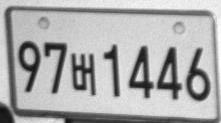1: (101, 43, 125, 97)
4: (156, 45, 183, 100), (127, 44, 154, 98)
6: (185, 46, 211, 101)
7: (43, 41, 68, 94)
9: (17, 39, 41, 93)
버: (71, 52, 97, 95)
